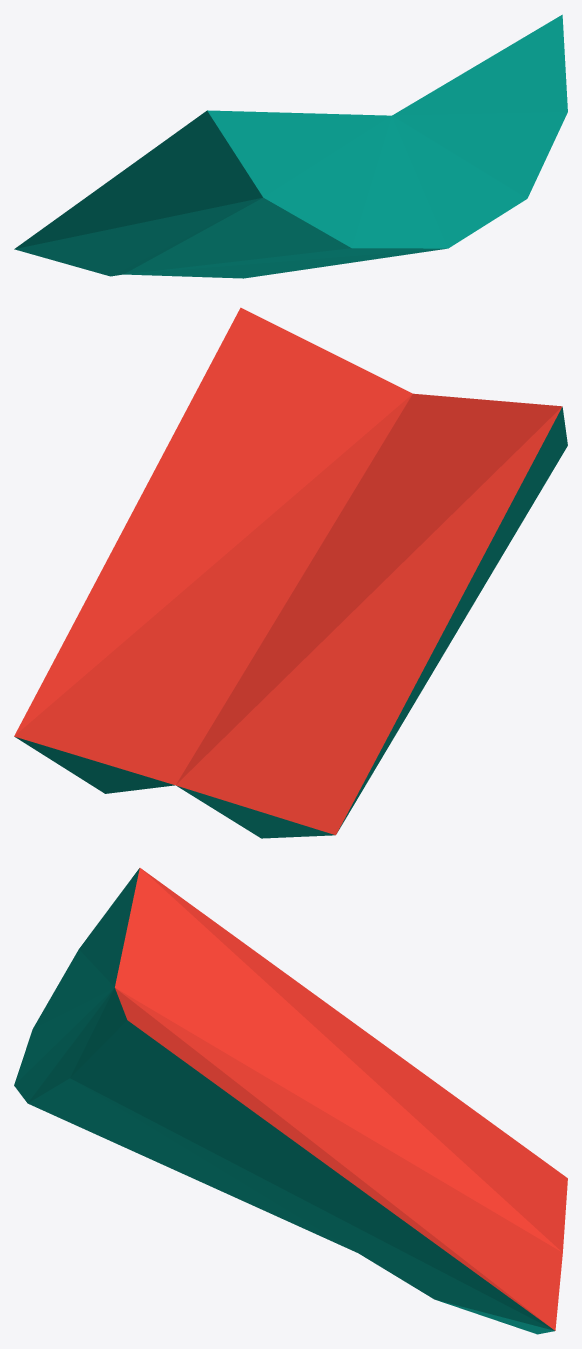
The model's file is n5_group225665673_lev5.glb.
3 renders of one model, top to bottom at view 1: azimuth 30°, elevation 25°; view 2: azimuth 150°, elevation 25°; view 3: azimuth 270°, elevation 25°, orthographic. The views are drawn at different scales.
Parts seen in each view (by area): view 1: n5_group225665673_lev5; view 2: n5_group225665673_lev5; view 3: n5_group225665673_lev5.
Part boxes in pixels (bbox=[...]): n5_group225665673_lev5: bbox=[14, 14, 567, 278]; n5_group225665673_lev5: bbox=[14, 307, 567, 838]; n5_group225665673_lev5: bbox=[14, 868, 567, 1334].
Bounding box in the file's own units: 3.05 × 2.79 × 3.98.
